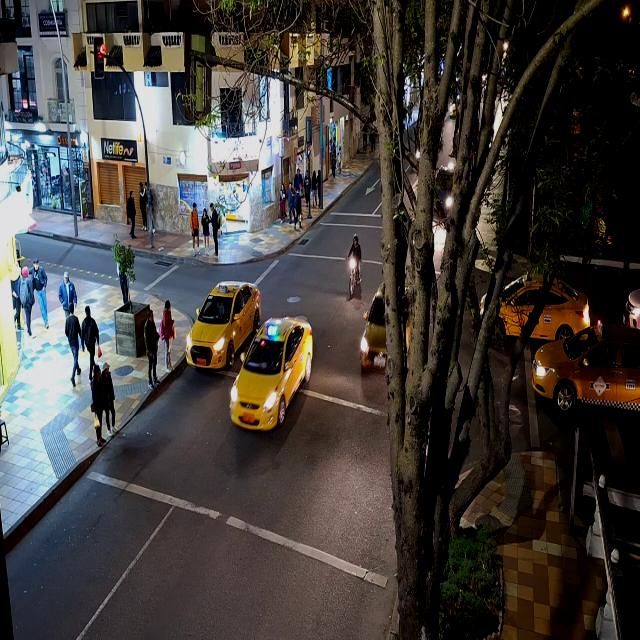MOTORCYCLE: (348, 256, 363, 300)
SED: (532, 328, 638, 408), (234, 318, 310, 429), (484, 274, 592, 338), (188, 281, 254, 365), (362, 288, 384, 369)
